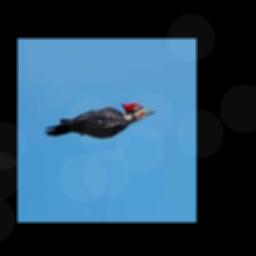Woodpecker: (43, 101, 154, 138)
